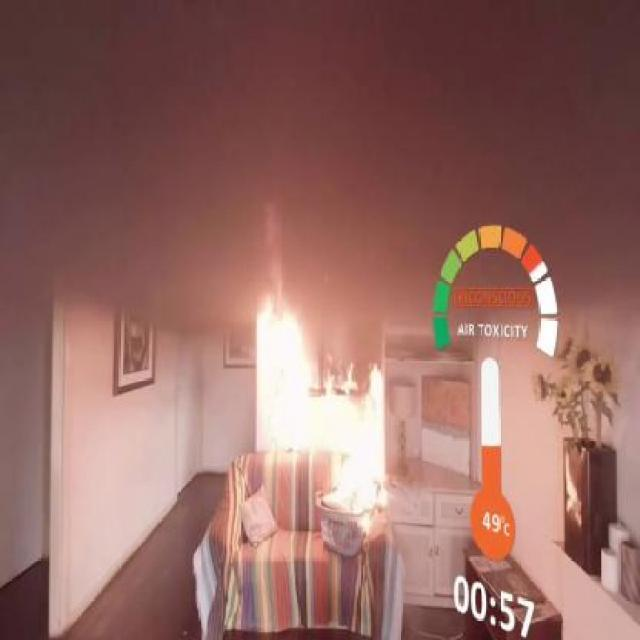fire: (250, 303, 399, 563)
smoke: (68, 36, 422, 286)
